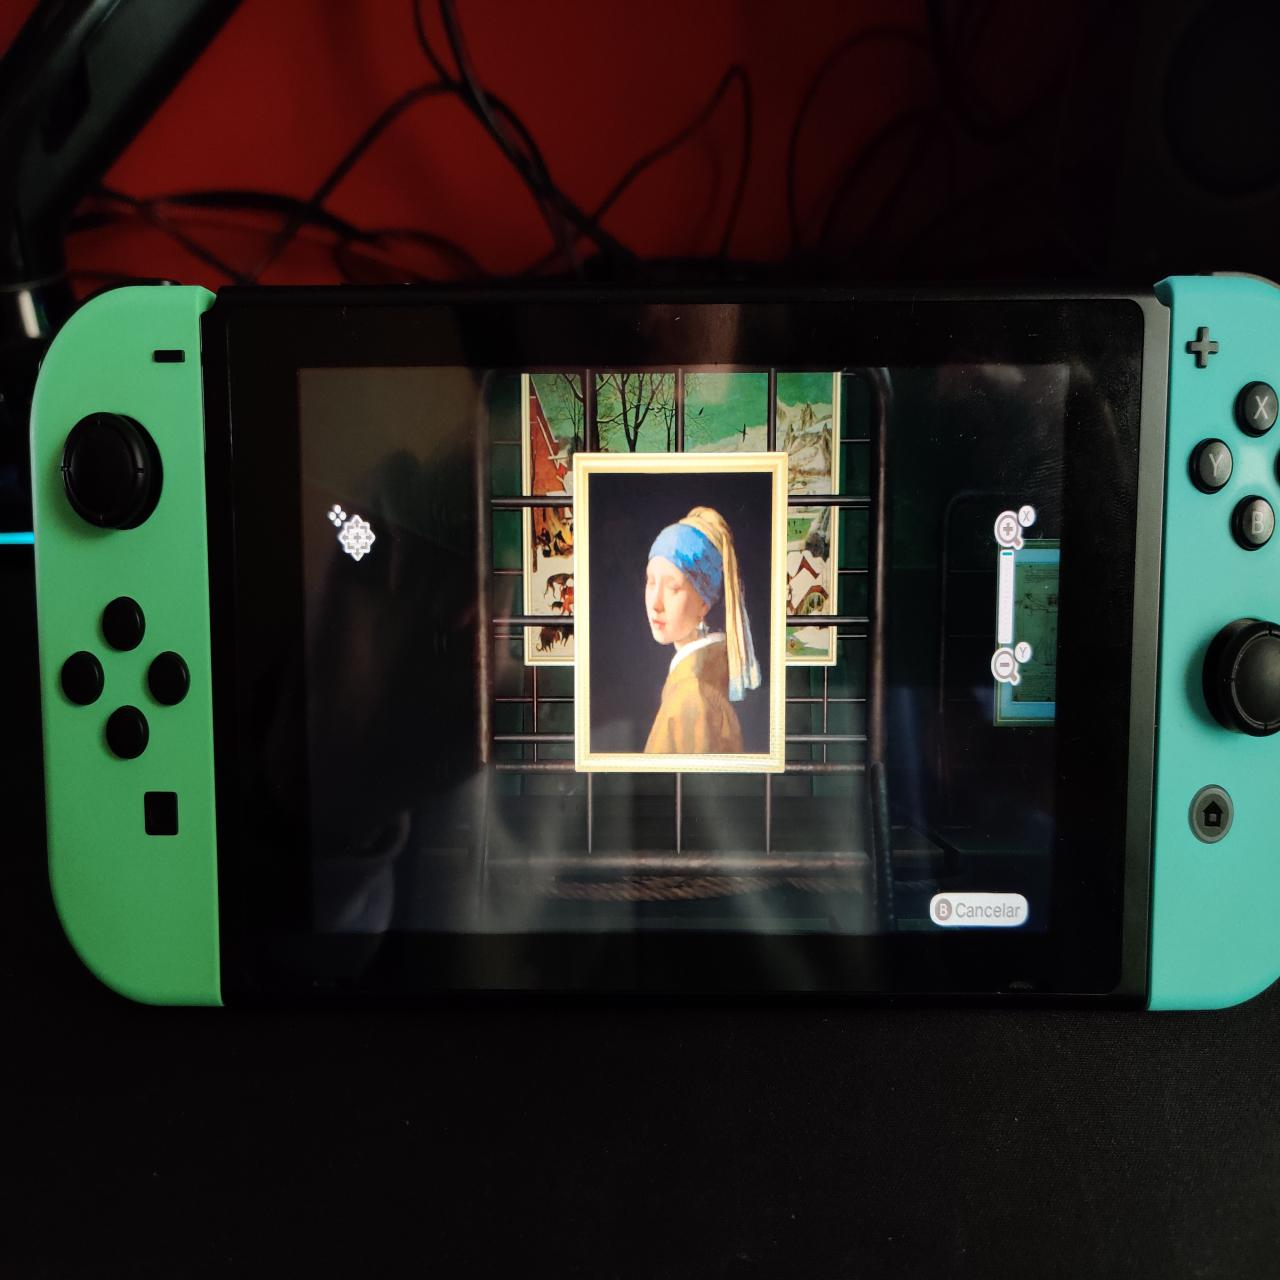PearlEarringFake: (588, 475, 771, 754)
